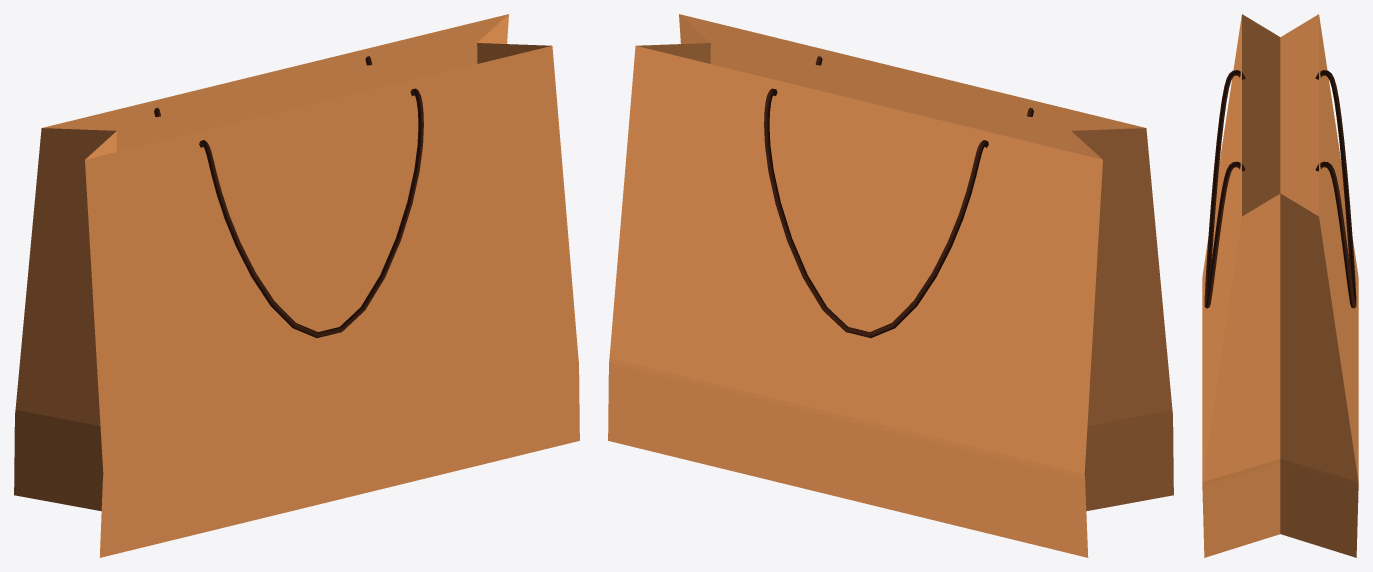
File: Shopping Bag 3.fbx
3 views of the same model, side by side, from view 1: azimuth 30°, elevation 25°; view 2: azimuth 150°, elevation 25°; view 3: azimuth 270°, elevation 25° (orthographic). The views are drawn at different scales.
Visible parts, largest first — view 1: Node 0; view 2: Node 0; view 3: Node 0.
Part boxes in pixels (x1,y1,x2,y2): Node 0: [14, 14, 579, 557]; Node 0: [608, 14, 1173, 557]; Node 0: [1202, 14, 1358, 557].
Size of the model in its own units: 0.1579 by 0.3775 by 0.4977.
